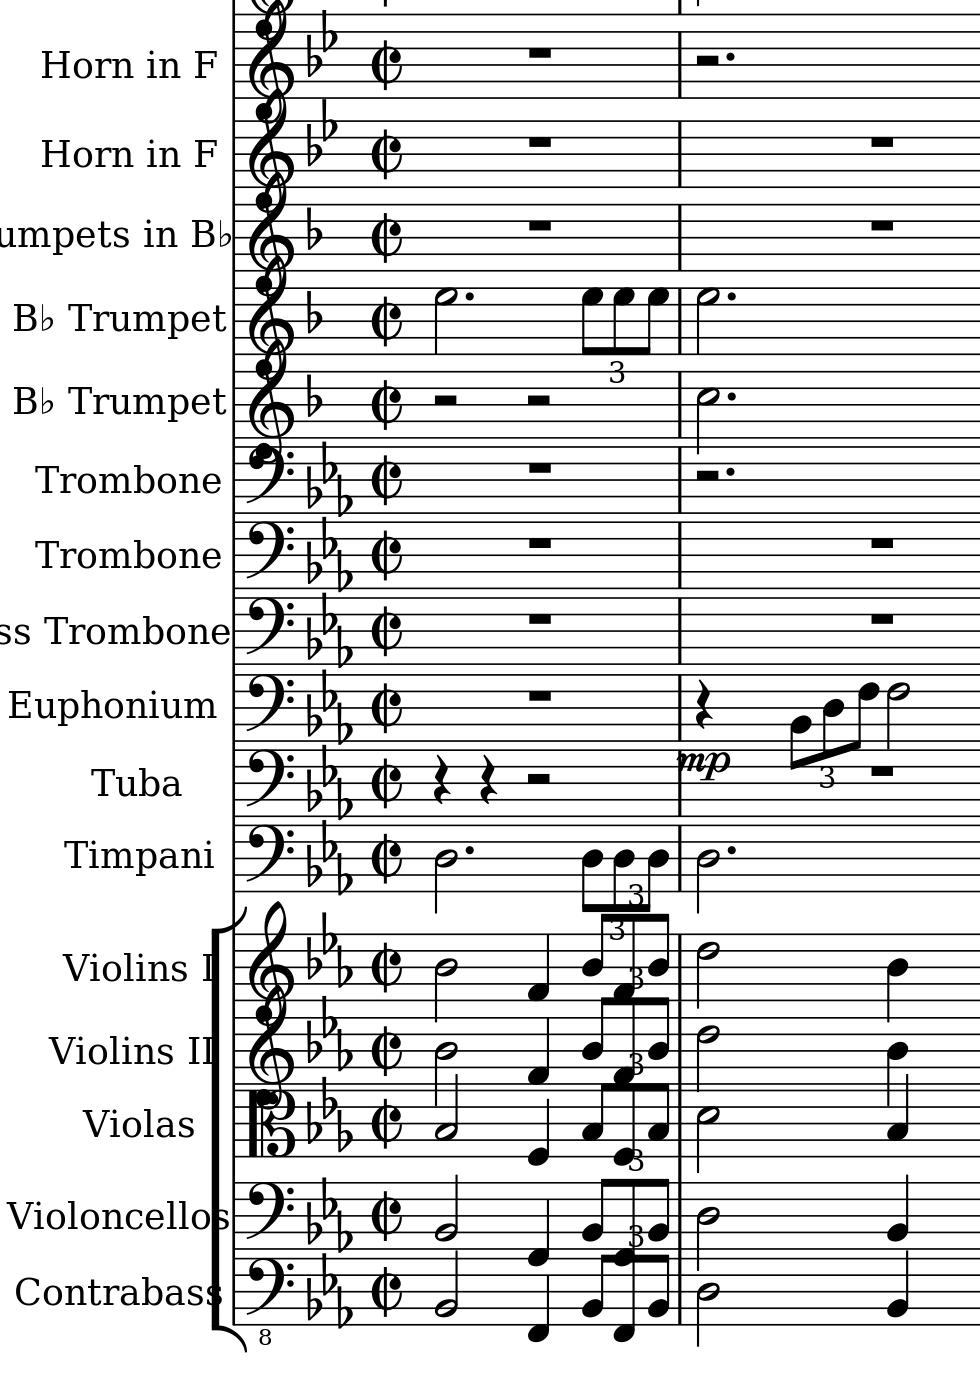2_5: (694, 369, 719, 451)
2_7: (694, 285, 720, 356)
8_7: (640, 286, 669, 356), (611, 286, 635, 356), (580, 284, 603, 355)
B_F: (305, 99, 338, 168)
E_F: (305, 910, 354, 992), (305, 994, 354, 1074), (305, 591, 354, 670), (304, 819, 353, 898), (305, 515, 353, 596), (307, 1174, 354, 1255), (305, 668, 354, 747), (305, 1076, 354, 1155), (305, 744, 354, 822), (305, 440, 353, 519), (305, 1252, 353, 1330)
Fclef: (244, 823, 294, 894)
Flat: (304, 290, 321, 335), (305, 374, 321, 417)
Hn: (39, 43, 138, 83), (41, 134, 140, 173)
Rests1: (524, 685, 557, 706), (523, 215, 555, 235), (524, 609, 556, 629), (867, 608, 898, 628), (523, 131, 556, 151), (865, 131, 898, 151), (867, 533, 898, 552), (867, 215, 896, 235), (523, 43, 556, 62), (867, 764, 899, 782), (524, 534, 555, 552), (523, 460, 555, 476)
Rests2: (523, 769, 557, 790), (522, 391, 555, 411), (428, 392, 461, 411), (692, 51, 720, 71), (692, 467, 721, 485)
Rests4: (692, 678, 715, 731), (431, 753, 452, 806), (477, 753, 497, 806)
Single_barline: (673, 33, 687, 99), (673, 292, 688, 350), (673, 598, 686, 664), (673, 122, 686, 187), (673, 524, 686, 587), (228, 825, 240, 893), (673, 452, 686, 512), (673, 676, 685, 738), (673, 375, 686, 433), (673, 206, 686, 261), (673, 1, 686, 14)
TimeSig: (369, 206, 404, 271), (369, 121, 403, 188), (369, 290, 403, 356), (369, 676, 403, 742), (369, 1018, 403, 1085), (369, 33, 404, 98), (369, 448, 403, 513), (369, 523, 403, 589), (370, 933, 403, 1001), (369, 1091, 402, 1158), (368, 371, 402, 436), (369, 598, 403, 663), (369, 1183, 403, 1248), (370, 1260, 403, 1324), (370, 826, 402, 893), (370, 751, 402, 817)
Timp: (63, 835, 158, 879)
dot: (462, 290, 476, 303), (462, 843, 476, 857), (724, 844, 739, 857)
mp: (673, 751, 735, 782)
